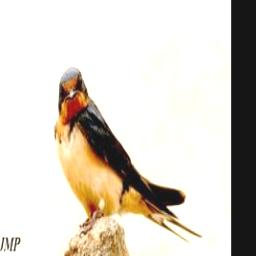Swallow: (53, 64, 203, 255)
